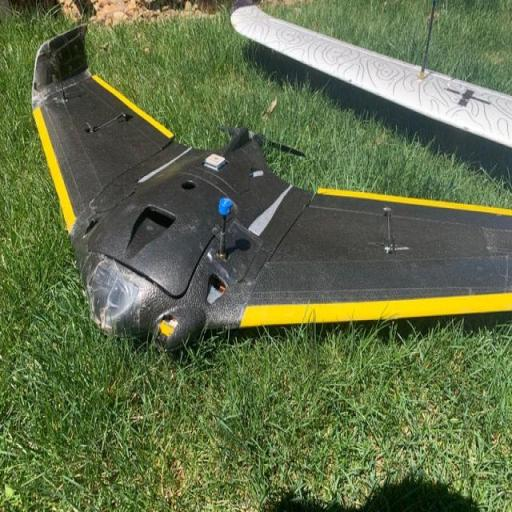uav: (27, 20, 512, 371)
